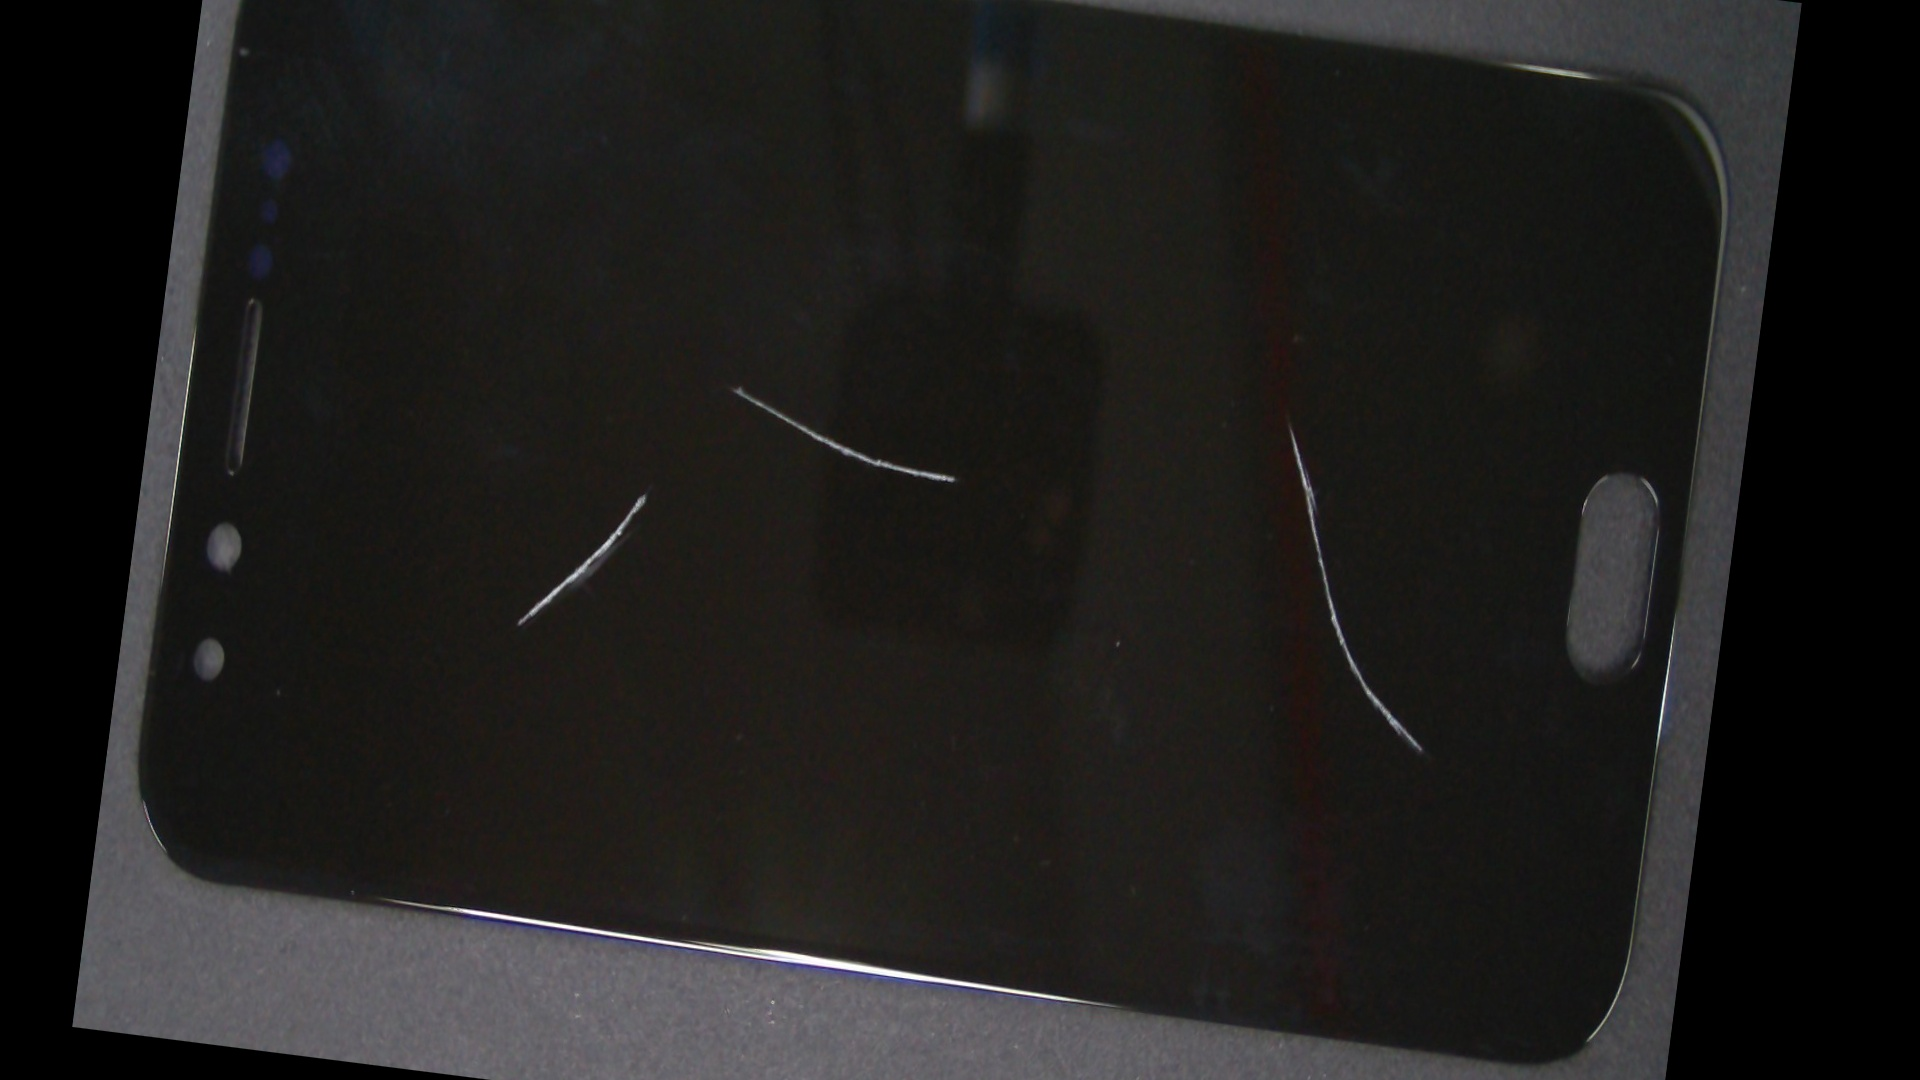oil: (698, 112, 1771, 719), (357, 148, 934, 839), (419, 94, 1059, 676)
